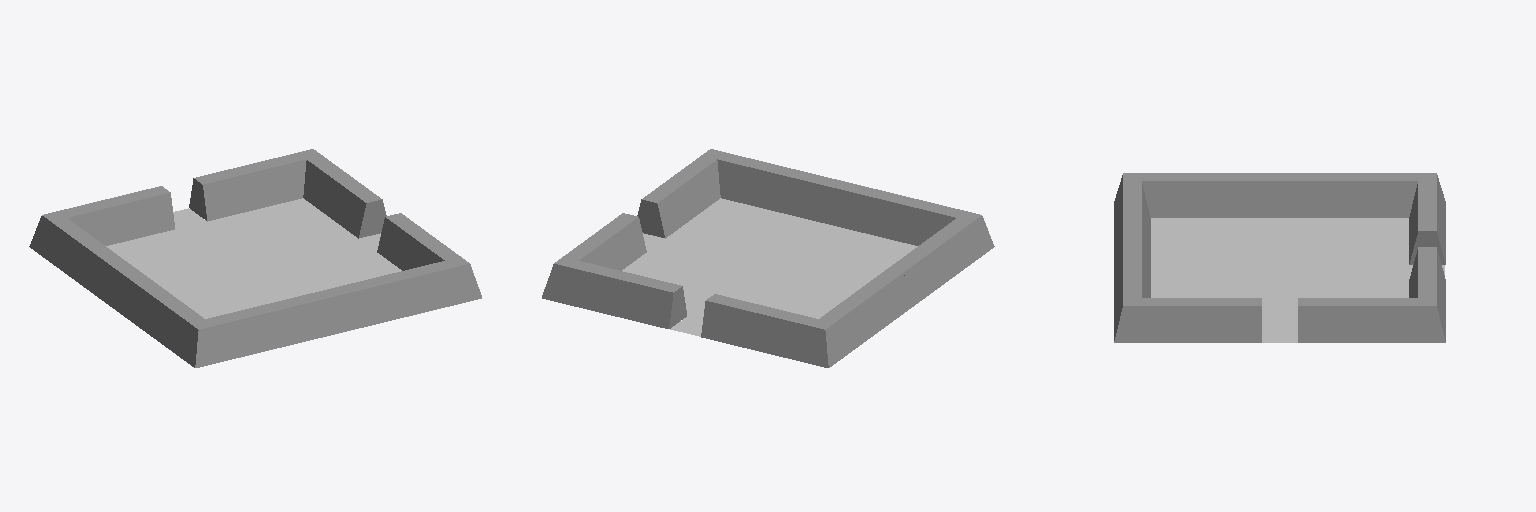
File: sala_8.obj
3 views of the same model, side by side, from view 1: azimuth 30°, elevation 25°; view 2: azimuth 150°, elevation 25°; view 3: azimuth 270°, elevation 25° (orthographic).
Visible parts, largest first — view 1: Ground_Plane.001, Wall.005_Cube.002, Wall.002_Cube.014, Wall.007_Cube.017, Wall.001_Cube.012, Wall.003_Cube.010, Wall.000_Cube.011, Wall.006_Cube.016, Wall.004_Cube.015, Plane.001_Plane.007; view 2: Ground_Plane.001, Wall.007_Cube.017, Wall.000_Cube.011, Wall.005_Cube.002, Wall.002_Cube.014, Wall.003_Cube.010, Wall.001_Cube.012, Wall.004_Cube.015, Wall.006_Cube.016, Plane.001_Plane.007; view 3: Ground_Plane.001, Wall.004_Cube.015, Wall.006_Cube.016, Wall.003_Cube.010, Wall.001_Cube.012, Wall.000_Cube.011, Wall.002_Cube.014, Wall.005_Cube.002, Wall.007_Cube.017, Plane.003_Plane.005.
Part boxes in pixels (x1,y1,x2,y2): Ground_Plane.001: (106, 198, 401, 318); Wall.005_Cube.002: (326, 261, 481, 332); Wall.002_Cube.014: (195, 290, 338, 367); Wall.007_Cube.017: (189, 149, 312, 221); Wall.001_Cube.012: (29, 215, 135, 306); Wall.003_Cube.010: (112, 269, 204, 367); Wall.000_Cube.011: (44, 186, 174, 245); Wall.006_Cube.016: (303, 149, 386, 238); Wall.004_Cube.015: (377, 213, 468, 270); Plane.001_Plane.007: (173, 208, 216, 236); Ground_Plane.001: (622, 198, 917, 318); Wall.007_Cube.017: (542, 261, 686, 328); Wall.000_Cube.011: (701, 294, 828, 367); Wall.005_Cube.002: (711, 149, 845, 224); Wall.002_Cube.014: (833, 182, 979, 245); Wall.003_Cube.010: (888, 215, 994, 306); Wall.001_Cube.012: (819, 269, 911, 367); Wall.004_Cube.015: (637, 149, 720, 238); Wall.006_Cube.016: (555, 213, 646, 270); Plane.001_Plane.007: (670, 308, 703, 336); Ground_Plane.001: (1151, 218, 1408, 317); Wall.004_Cube.015: (1114, 298, 1261, 342); Wall.006_Cube.016: (1298, 298, 1445, 342); Wall.003_Cube.010: (1124, 173, 1279, 217); Wall.001_Cube.012: (1280, 173, 1435, 217); Wall.000_Cube.011: (1409, 173, 1445, 264); Wall.002_Cube.014: (1114, 173, 1150, 270); Wall.005_Cube.002: (1114, 239, 1150, 340); Wall.007_Cube.017: (1409, 247, 1445, 340); Plane.003_Plane.005: (1262, 318, 1297, 342).
Bounding box in the file's own units: 18 × 2 × 18.